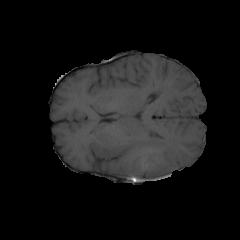glioma: (122, 136, 174, 178)
